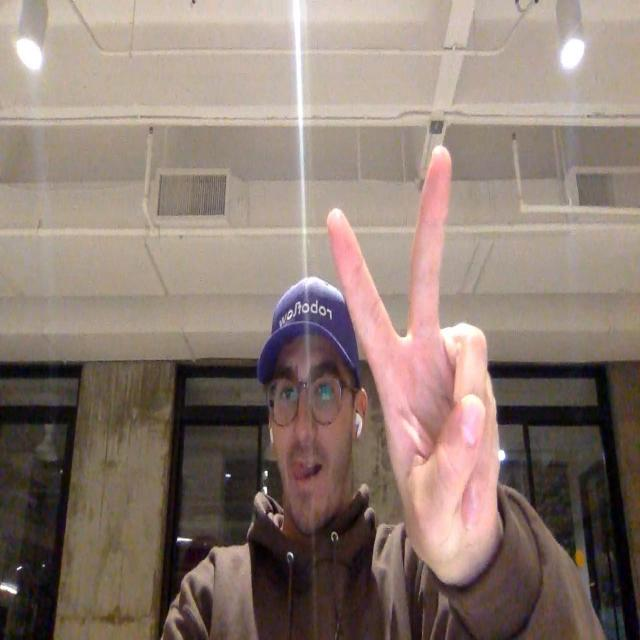face: (271, 342, 351, 532)
